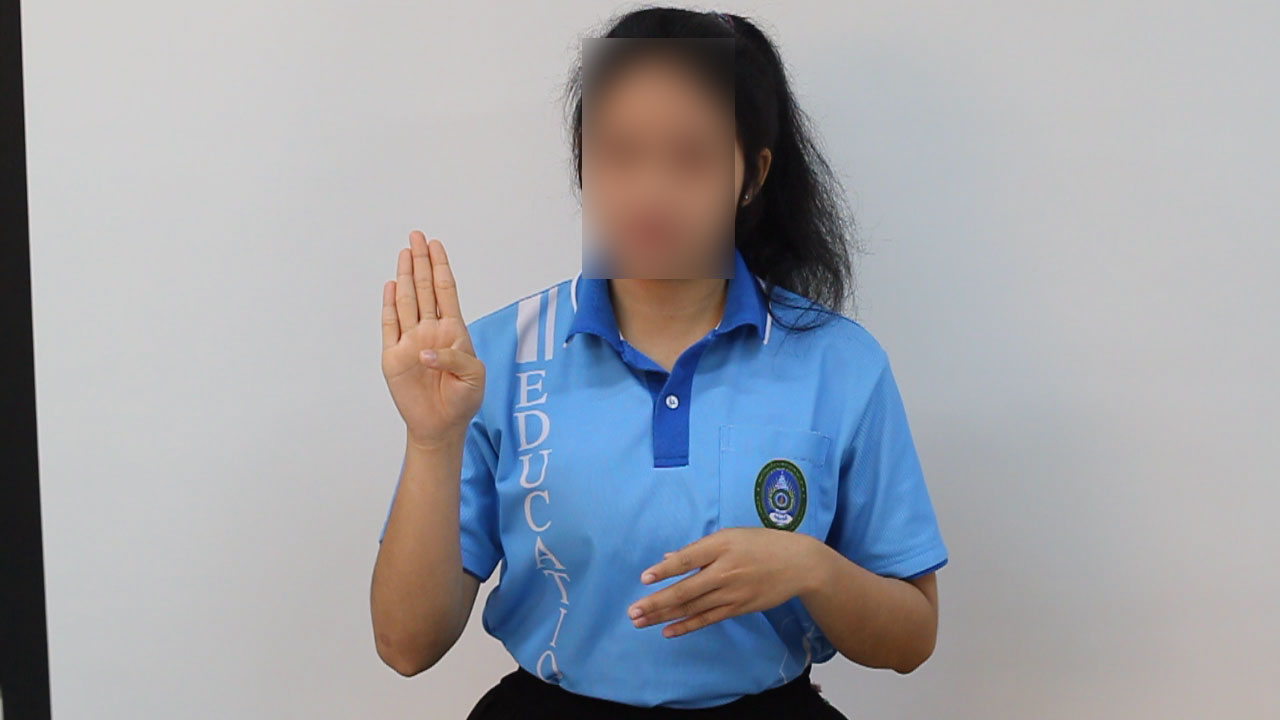bor: (354, 222, 502, 473)
